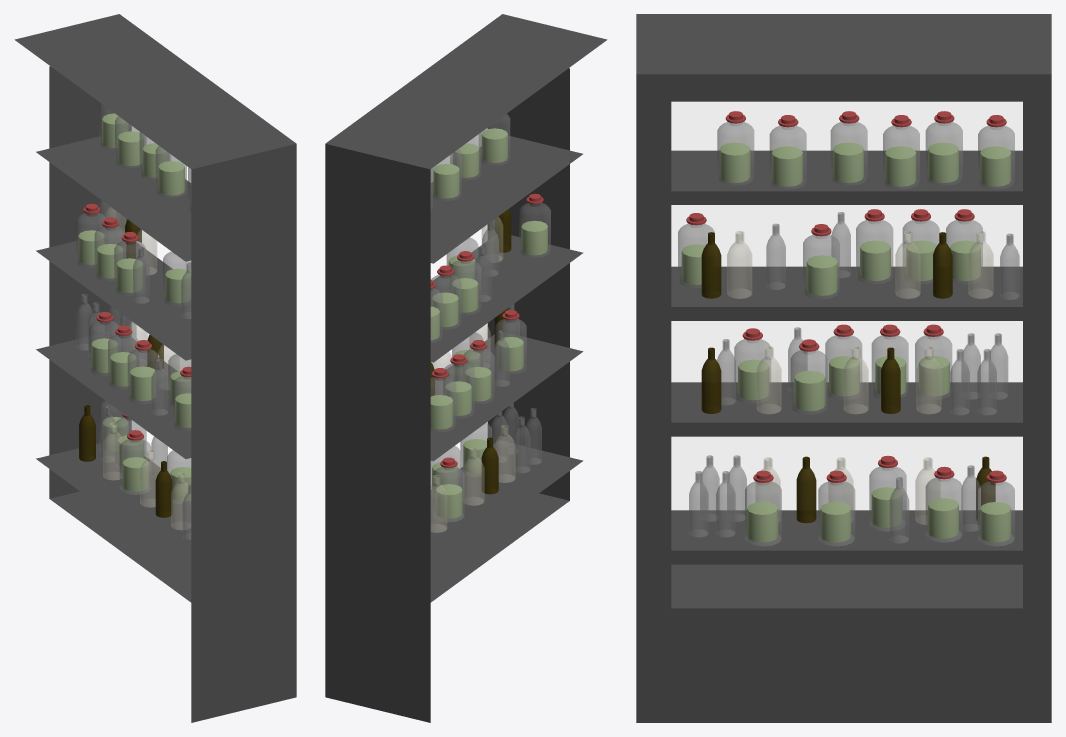
The model's file is tube_glass3.glb.
3 views of the same model, side by side, from view 1: azimuth 30°, elevation 25°; view 2: azimuth 150°, elevation 25°; view 3: azimuth 270°, elevation 25° (orthographic). The views are drawn at different scales.
Visible parts, largest first — view 1: Box12627_Material #457_0, Cylinder3997_Material #459_0, Cylinder3991_Material #459_0, Cylinder4007_Material #459_0, Cylinder4002_Material #459_0, Cylinder4001_Material #459_0, Cylinder3992_Material #459_0, Cylinder4003_Material #459_0, Cylinder3993_Material #459_0, Cylinder4005_Material #459_0, Cylinder4000_Material #459_0, Object6374_Material #634_0 (+36 smaller); view 2: Box12627_Material #457_0, Cylinder3999_Material #459_0, Cylinder3997_Material #459_0, Cylinder3993_Material #459_0, Cylinder4009_Material #459_0, Cylinder3991_Material #459_0, Cylinder4001_Material #459_0, Cylinder4007_Material #459_0, Cylinder3989_Material #459_0, Cylinder3992_Material #459_0, Cylinder4002_Material #459_0, Cylinder3994_Material #459_0 (+32 smaller); view 3: Box12627_Material #457_0, Object6312_Material #532_0, Cylinder3995_Material #459_0, Cylinder3998_Material #459_0, Cylinder3990_Material #459_0, Cylinder4001_Material #459_0, Cylinder3994_Material #459_0, Cylinder3996_Material #459_0, Cylinder4005_Material #459_0, Cylinder4007_Material #459_0, Cylinder4008_Material #459_0, Cylinder4009_Material #459_0 (+61 smaller).
Boxes of the visible parts, box(x1,y1,x2,y2) form: Box12627_Material #457_0: box(14, 14, 296, 722); Cylinder3997_Material #459_0: box(119, 439, 151, 494); Cylinder3991_Material #459_0: box(127, 349, 159, 403); Cylinder4007_Material #459_0: box(155, 146, 186, 197); Cylinder4002_Material #459_0: box(94, 226, 125, 281); Cylinder4001_Material #459_0: box(114, 241, 145, 295); Cylinder3992_Material #459_0: box(108, 334, 138, 389); Cylinder4003_Material #459_0: box(76, 213, 107, 267); Cylinder3993_Material #459_0: box(89, 321, 120, 375); Cylinder4005_Material #459_0: box(115, 116, 146, 167); Cylinder4000_Material #459_0: box(163, 251, 191, 306); Object6374_Material #634_0: box(103, 422, 123, 479); Box12627_Material #457_0: box(325, 14, 607, 722); Cylinder3999_Material #459_0: box(519, 203, 550, 257); Cylinder3997_Material #459_0: box(433, 467, 464, 522); Cylinder3993_Material #459_0: box(430, 377, 456, 431); Cylinder4009_Material #459_0: box(479, 114, 510, 165); Cylinder3991_Material #459_0: box(463, 349, 494, 403); Cylinder4001_Material #459_0: box(450, 260, 481, 314); Cylinder4007_Material #459_0: box(431, 149, 461, 200); Cylinder3989_Material #459_0: box(495, 319, 526, 373); Cylinder3992_Material #459_0: box(443, 363, 474, 418); Cylinder4002_Material #459_0: box(431, 274, 461, 329); Cylinder3994_Material #459_0: box(460, 423, 491, 476); Box12627_Material #457_0: box(636, 14, 1051, 722); Object6312_Material #532_0: box(671, 101, 1022, 510); Cylinder3995_Material #459_0: box(818, 481, 855, 546); Cylinder3998_Material #459_0: box(925, 477, 962, 542); Cylinder3990_Material #459_0: box(790, 350, 827, 414); Cylinder4001_Material #459_0: box(856, 220, 893, 284); Cylinder3994_Material #459_0: box(745, 481, 781, 546); Cylinder3996_Material #459_0: box(978, 481, 1014, 546); Cylinder4005_Material #459_0: box(925, 122, 962, 185); Cylinder4007_Material #459_0: box(830, 122, 867, 185); Cylinder4008_Material #459_0: box(769, 125, 806, 189); Cylinder4009_Material #459_0: box(717, 122, 754, 185).
Bounding box in the file's own units: 4.95 × 24.86 × 14.43.
